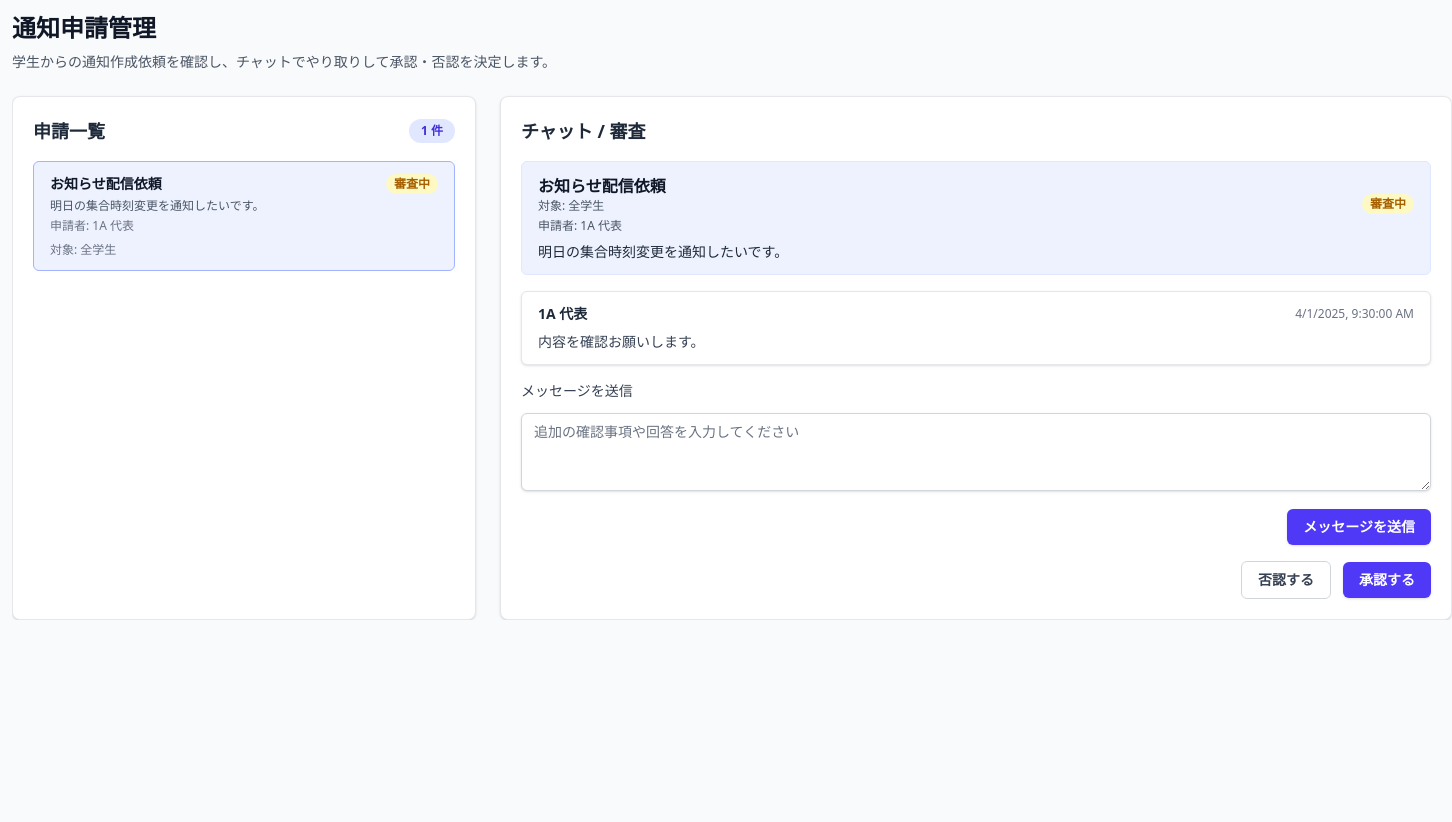
Notification Requests Page › メッセージ送信時にPOSTして詳細を更新する
In the text box labelled "メッセージを送信": coordinates (976, 452) x1=521 y1=413 x2=1431 y2=491, type "了解しました。"
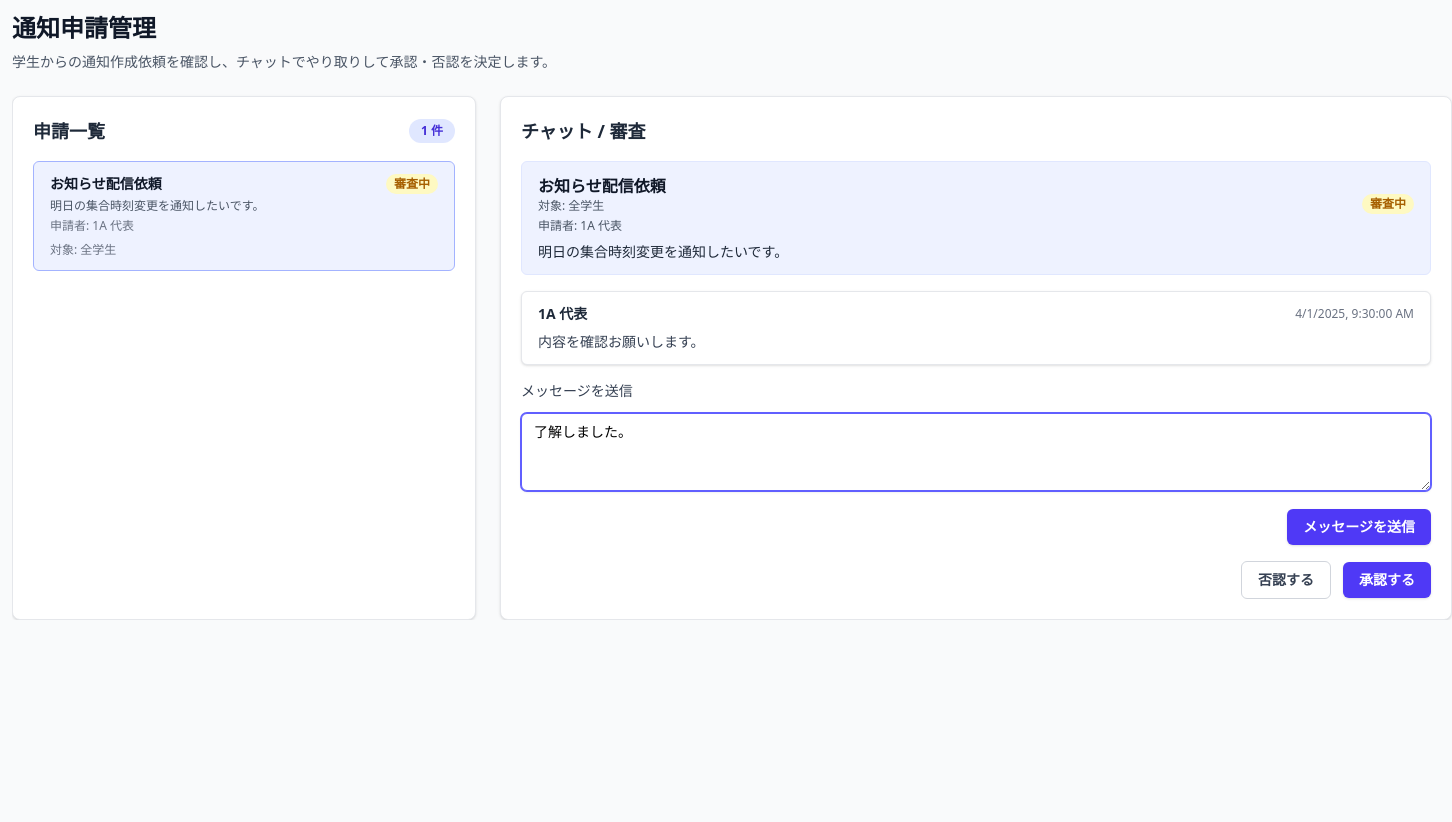
Click the button "メッセージを送信": coordinates (1359, 527) x1=1287 y1=509 x2=1431 y2=545
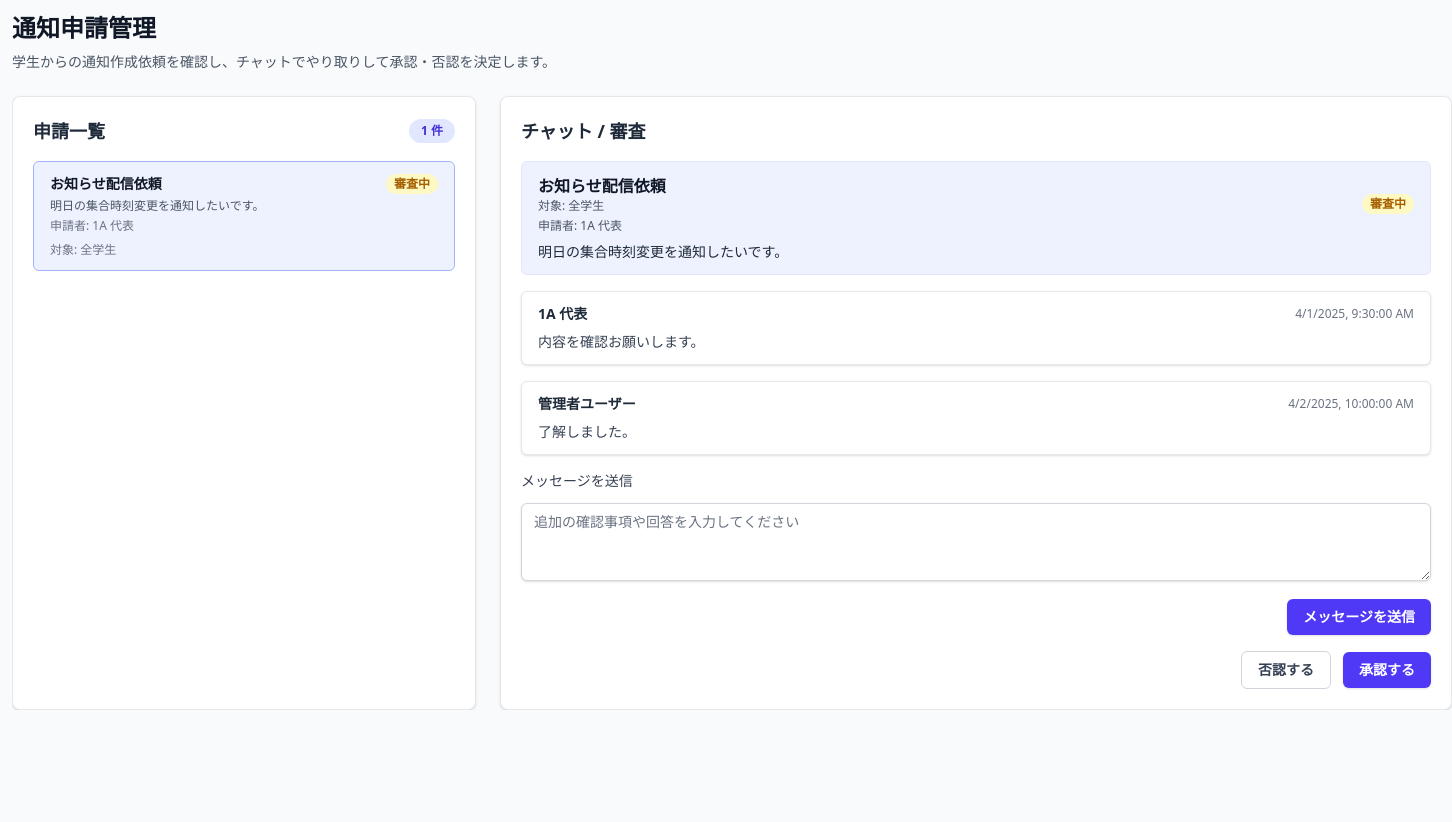
expect the text "了解しました。" is shown: met, box x1=538 y1=422 x2=636 y2=441
